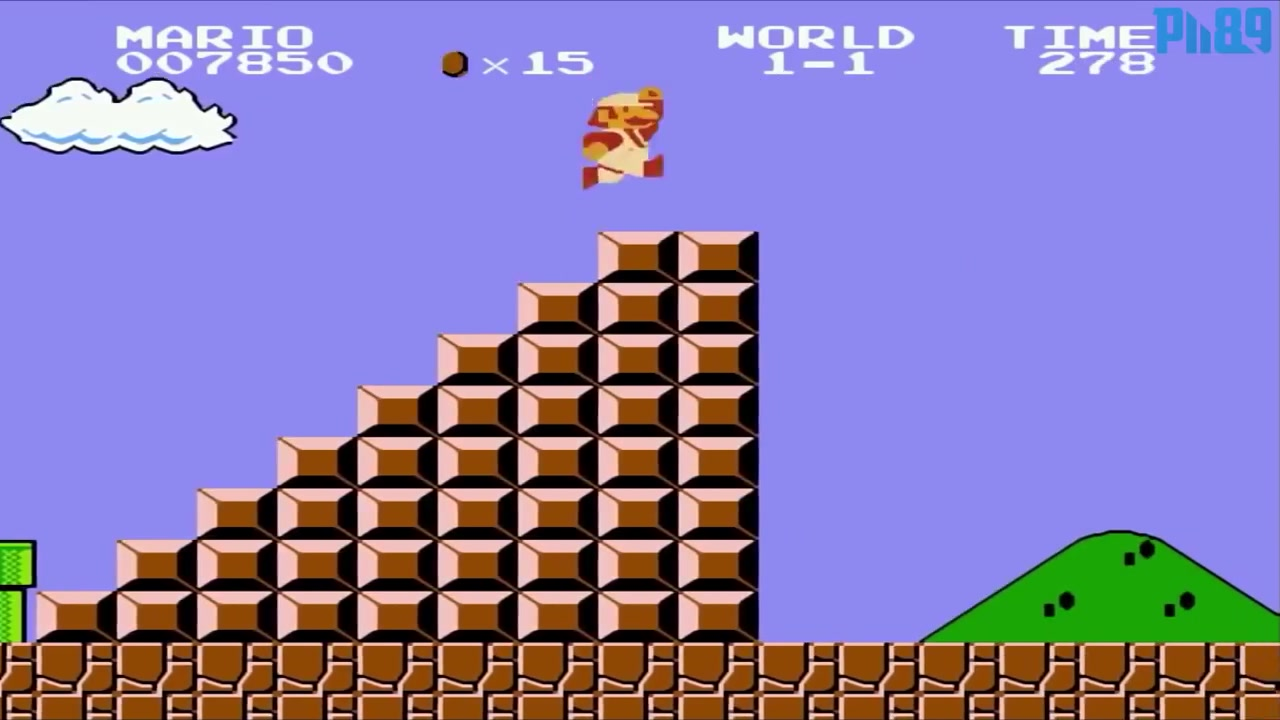mario: (582, 91, 681, 197)
